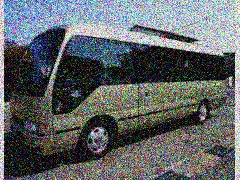bus: (19, 25, 225, 161)
